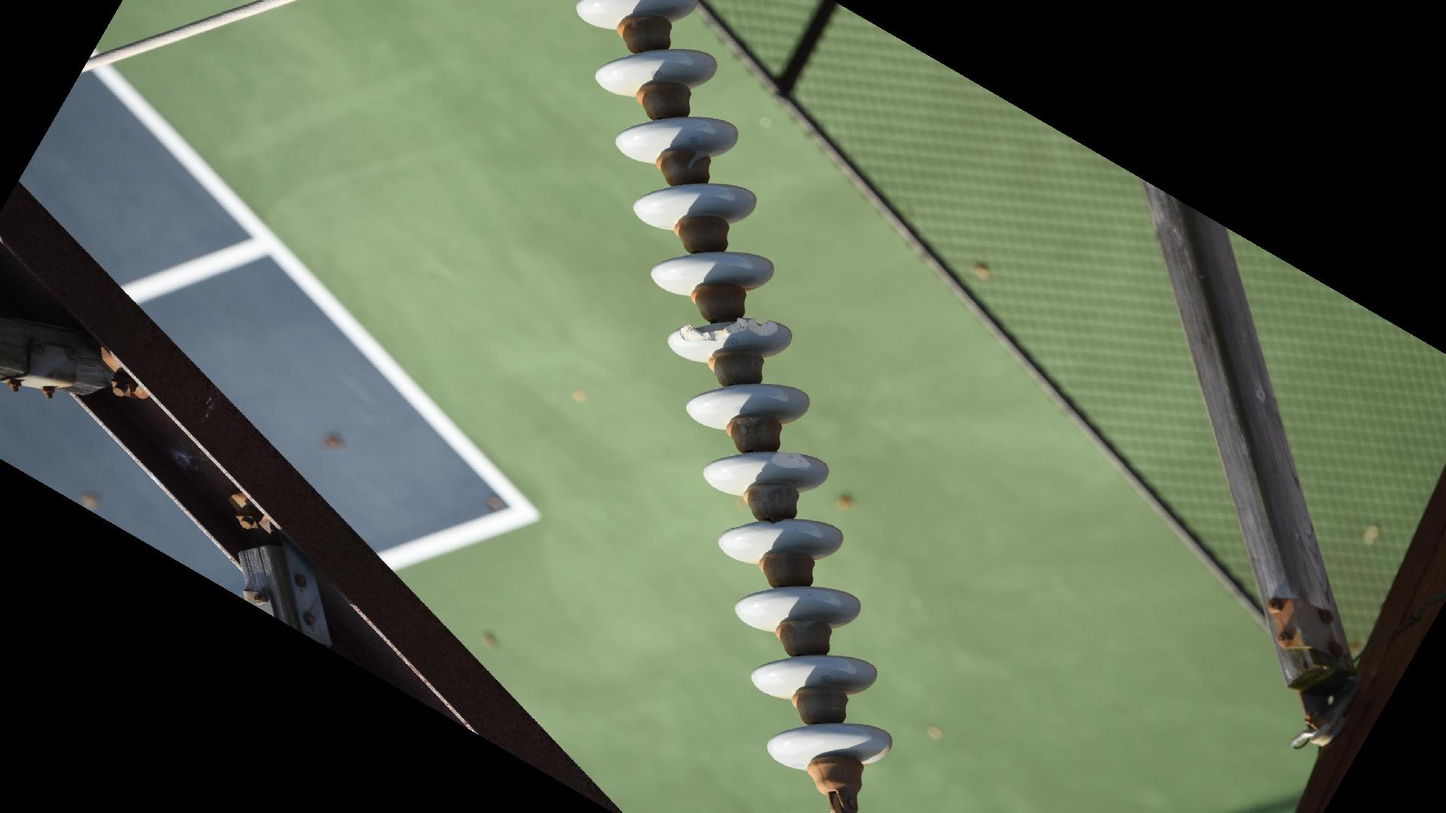insulator: (566, 1, 896, 774)
insulator_breakage: (673, 312, 785, 348)
